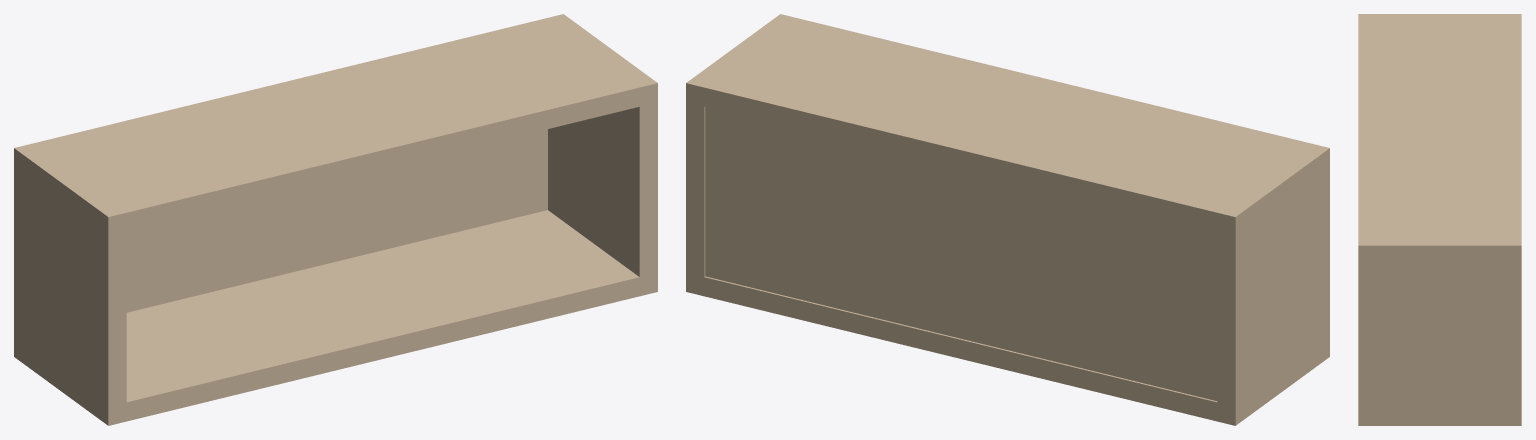
The picture shows the model from 3 angles, left to right: view 1: azimuth 30°, elevation 25°; view 2: azimuth 150°, elevation 25°; view 3: azimuth 270°, elevation 25°; orthographic projection. The views are drawn at different scales.
Parts seen in each view (by area): view 1: carcass, closed_panel; view 2: carcass, closed_panel; view 3: carcass.
Boxes of the visible parts, x1=… form: carcass: x1=14, y1=14, x2=657, y2=425; closed_panel: x1=126, y1=129, x2=547, y2=312; carcass: x1=686, y1=14, x2=1329, y2=425; closed_panel: x1=705, y1=107, x2=1217, y2=400; carcass: x1=1358, y1=14, x2=1521, y2=425.
Size of the model in its own units: 0.84 by 0.305 by 0.25.
